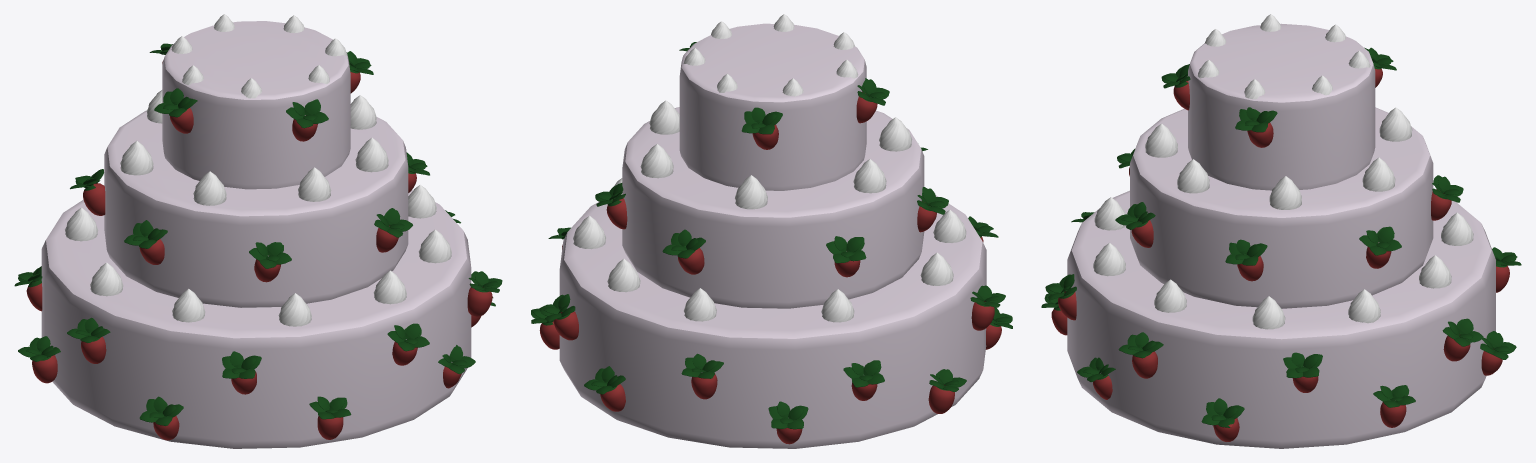
Rendered from SM_Cake.fbx.
3 views of the same model, side by side, from view 1: azimuth 30°, elevation 25°; view 2: azimuth 150°, elevation 25°; view 3: azimuth 270°, elevation 25° (orthographic).
Parts seen in each view (by area): view 1: pCylinder34; view 2: pCylinder34; view 3: pCylinder34.
Part boxes in pixels (x1,y1,x2,y2): pCylinder34: (14,14,502,448); pCylinder34: (531,14,1012,448); pCylinder34: (1041,14,1521,448).
Size of the model in its own units: 110 by 80.01 by 110.
